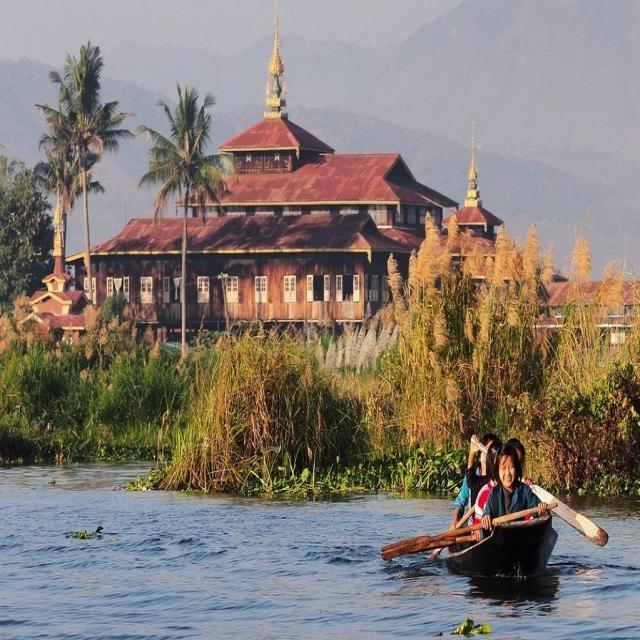Hyacinth: (244, 458, 368, 507), (378, 446, 478, 506), (68, 426, 165, 472), (563, 462, 640, 511), (442, 620, 498, 640), (65, 524, 108, 546)
boat: (431, 516, 563, 576)
